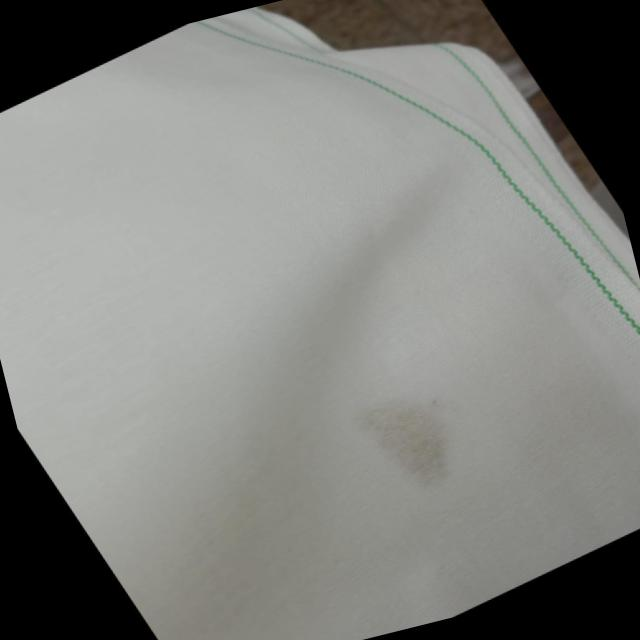stain: (334, 359, 503, 518)
